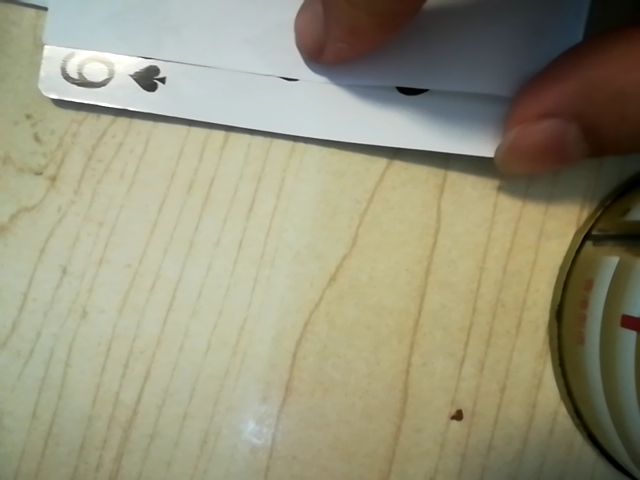ht 6: (44, 44, 173, 109)
